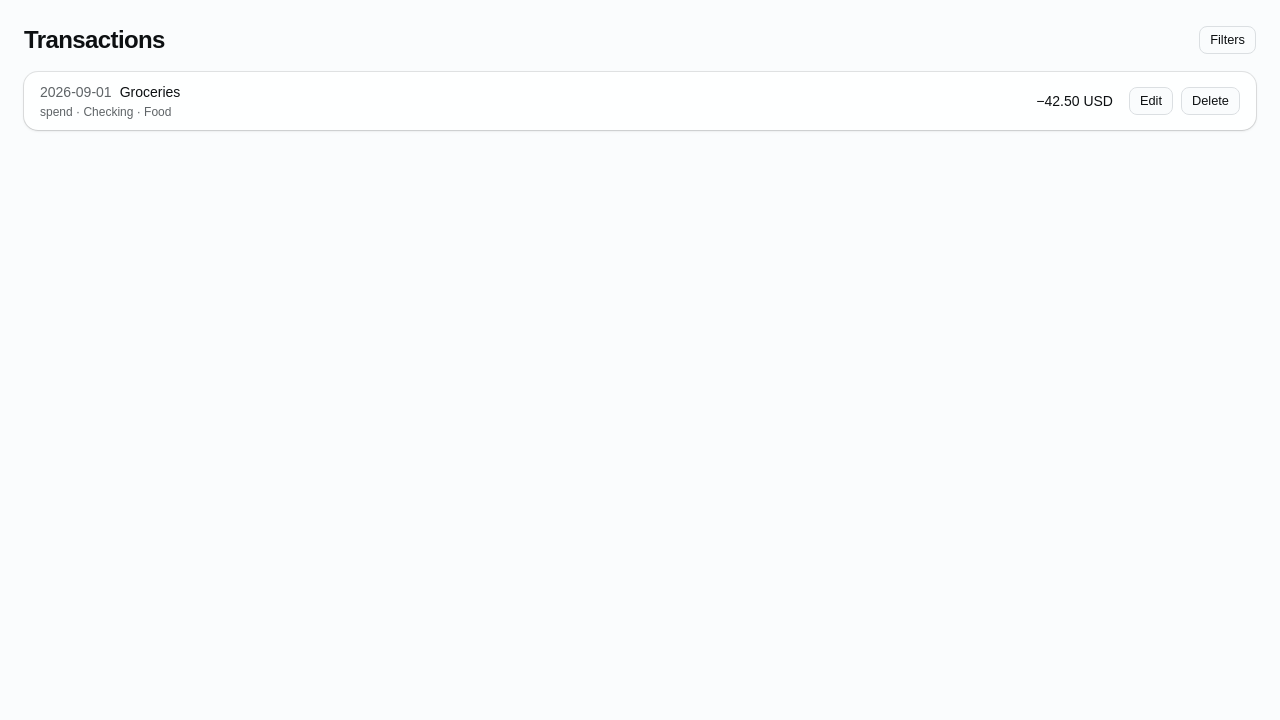
TransactionsList › rejects non-numeric characters in the edit dialog amount field
Expected: the text "Groceries" is shown, [120,82,180,102]
Click the button "Edit" at (1151, 101), box [1129,87,1173,115]
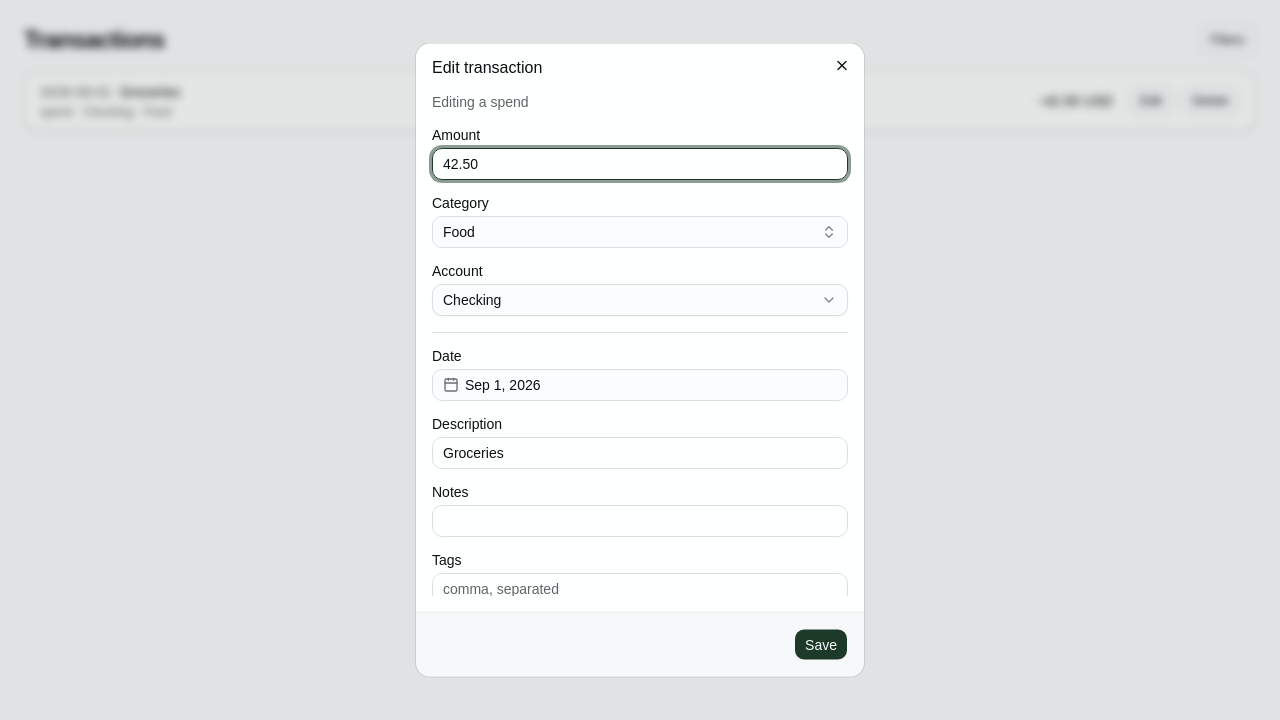
Replace the text in the field labelled "Amount" with "soemthing" at (640, 164), box [432,148,848,180]
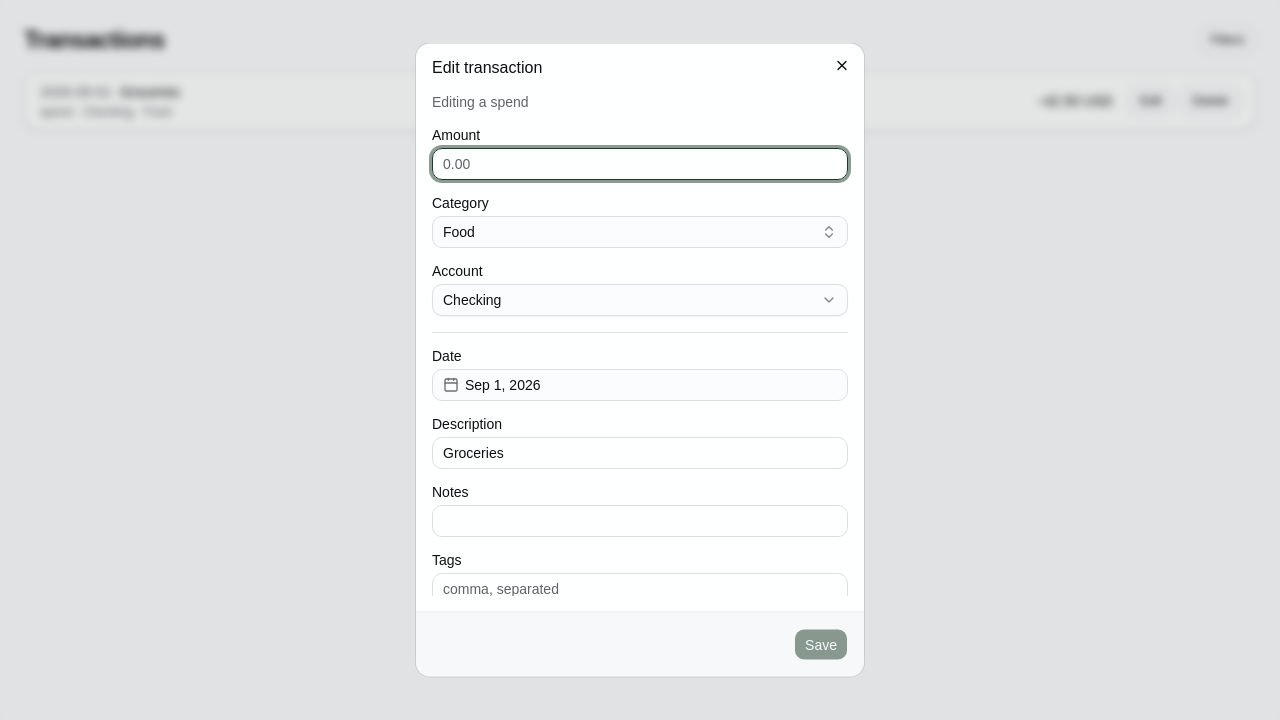
Now the field labelled "Amount" is empty
Type "$50.00" into the field labelled "Amount" at (640, 164), box [432,148,848,180]
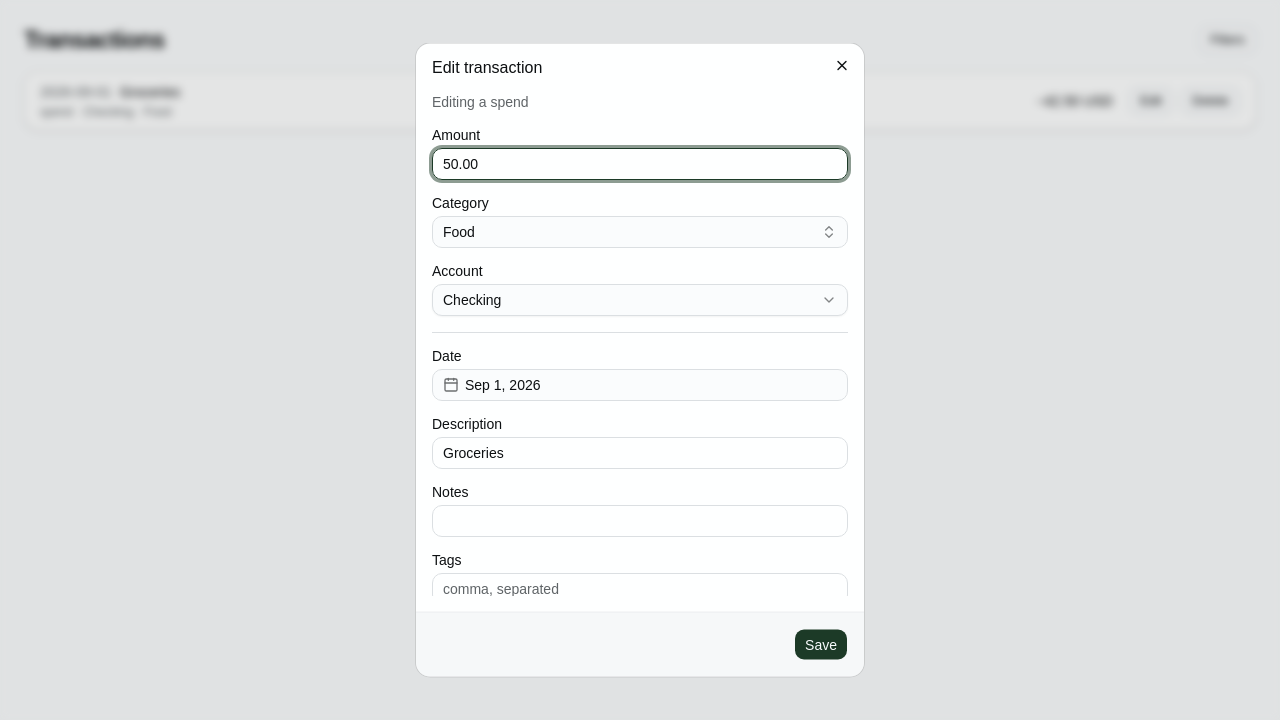
Now the field labelled "Amount" holds "50.00", box [432,148,848,180]
